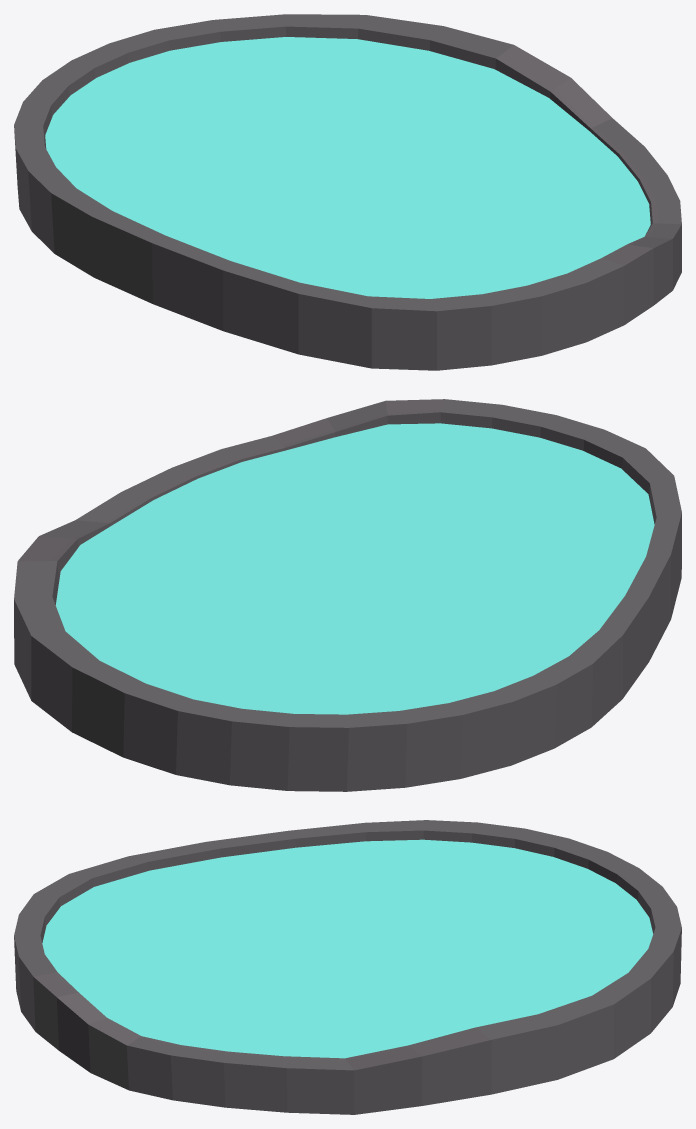
The model's file is Kolam.fbx.
3 views of the same model, one above another, from view 1: azimuth 30°, elevation 25°; view 2: azimuth 150°, elevation 25°; view 3: azimuth 270°, elevation 25° (orthographic). The views are drawn at different scales.
Visible parts, largest first — view 1: kolam; view 2: kolam; view 3: kolam.
Part boxes in pixels (left/top/right/bottom): kolam: left=14, top=14, right=681, bottom=370; kolam: left=14, top=399, right=681, bottom=791; kolam: left=14, top=820, right=681, bottom=1114.
Bounding box in the file's own units: 1059 × 140 × 1301.
